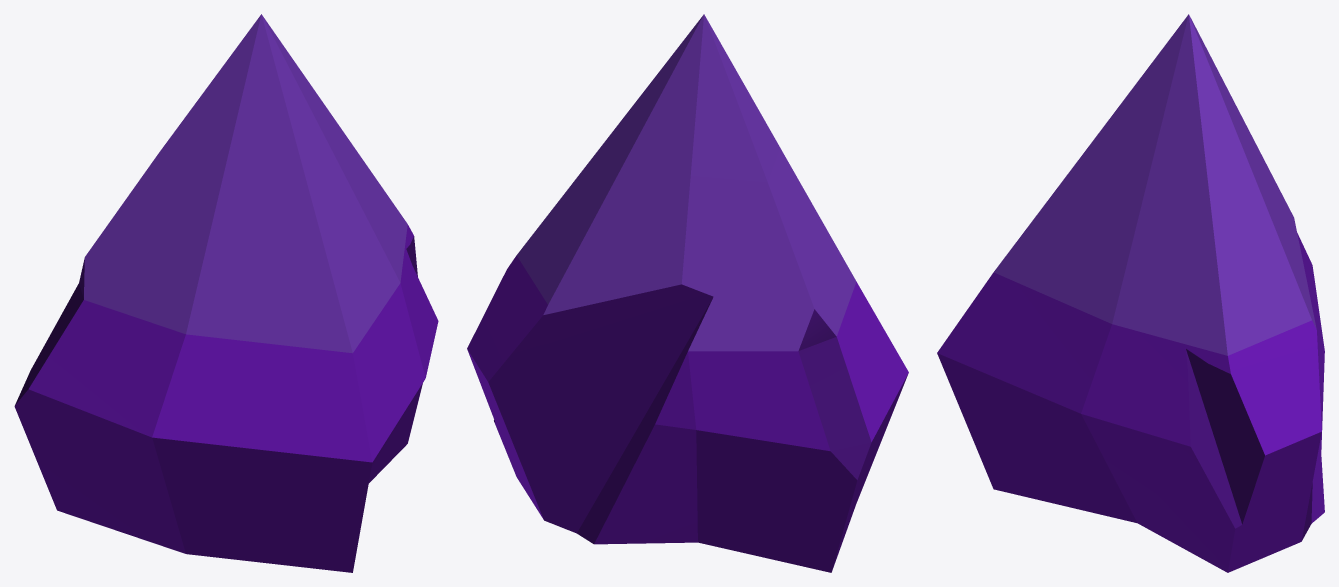
Rendered from Spike02.fbx.
The picture shows the model from 3 angles, left to right: view 1: azimuth 30°, elevation 25°; view 2: azimuth 150°, elevation 25°; view 3: azimuth 270°, elevation 25°; orthographic projection. The views are drawn at different scales.
Visible parts, largest first — view 1: Spike02; view 2: Spike02; view 3: Spike02.
Part boxes in pixels (bbox=[...]): Spike02: bbox=[14, 14, 438, 572]; Spike02: bbox=[467, 14, 908, 572]; Spike02: bbox=[937, 14, 1324, 572].
Bounding box in the file's own units: 60.37 × 70.68 × 51.89.
